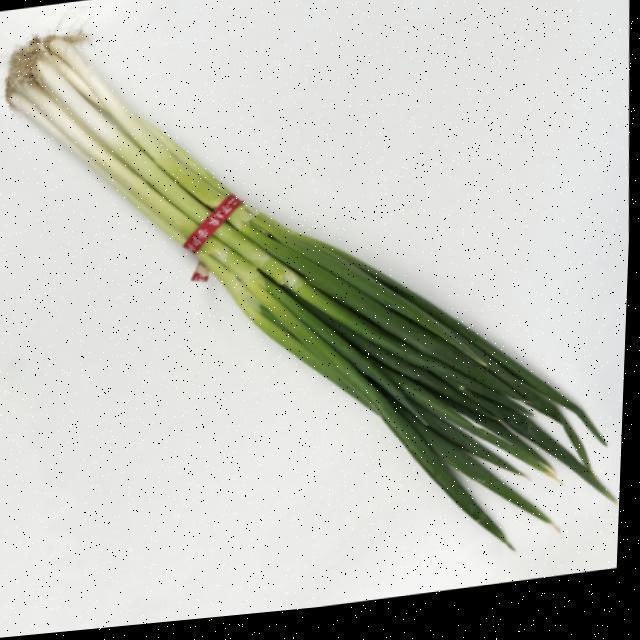green_onion: (0, 28, 605, 535)
